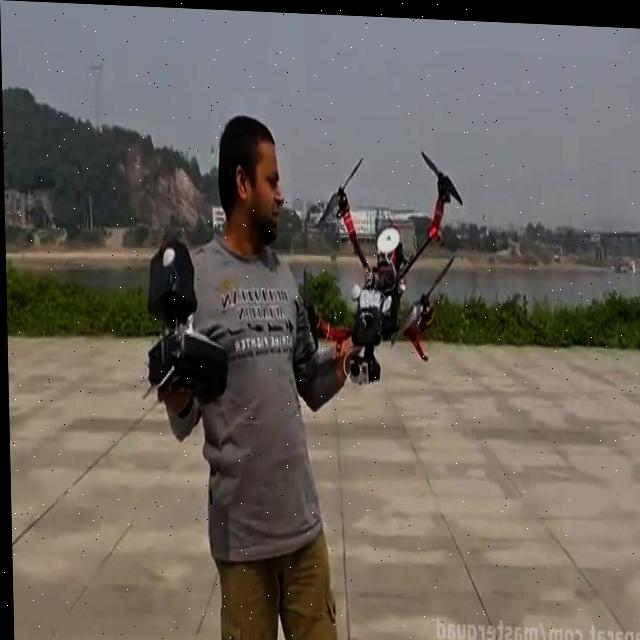drone: (297, 138, 468, 384)
